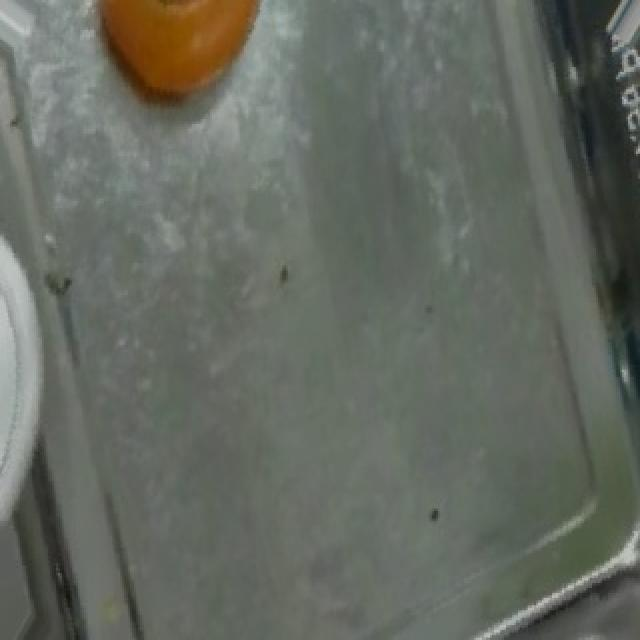Fruit: (70, 0, 286, 136)
